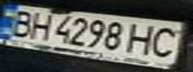2: (66, 15, 90, 47)
4: (48, 14, 72, 45)
8: (103, 18, 130, 52)
9: (84, 17, 109, 50)
B: (3, 7, 39, 38)
C: (145, 25, 187, 58)
H: (124, 21, 163, 56), (24, 9, 57, 42)
